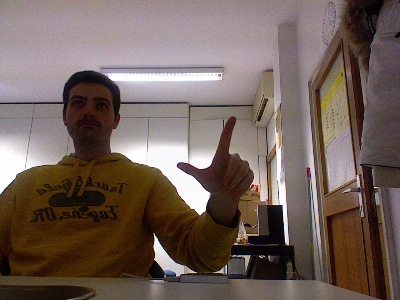枪: (175, 113, 255, 198)
